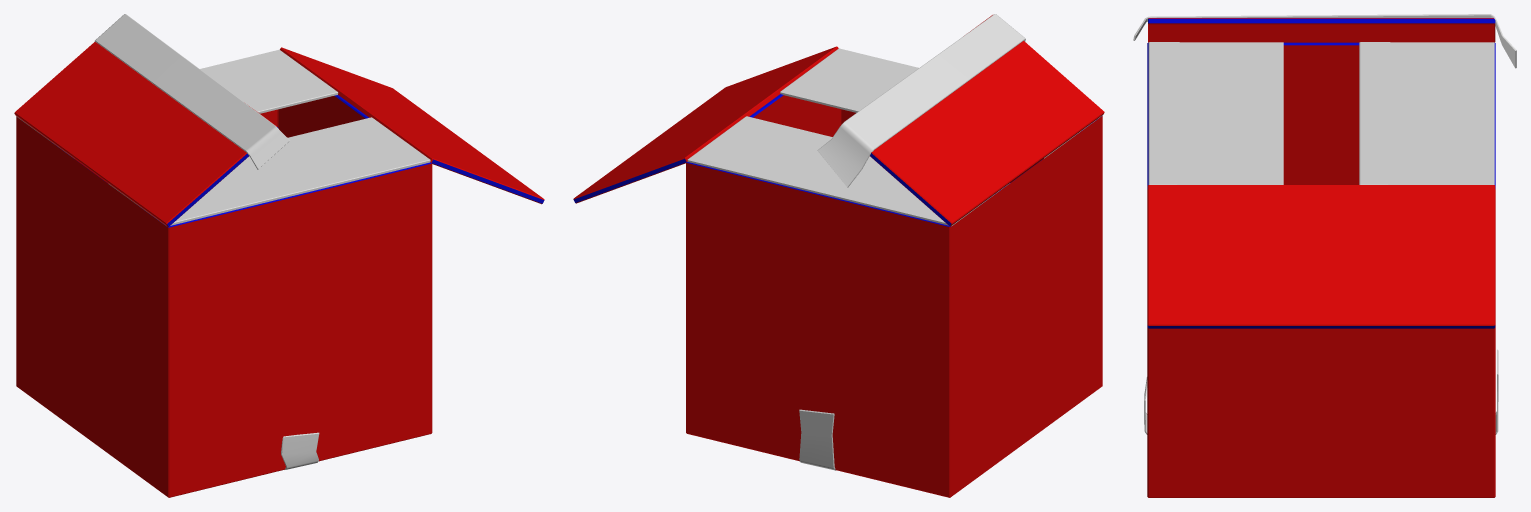
Rendered from BoxOpen (1).fbx.
3 views of the same model, side by side, from view 1: azimuth 30°, elevation 25°; view 2: azimuth 150°, elevation 25°; view 3: azimuth 270°, elevation 25° (orthographic). The views are drawn at different scales.
Parts seen in each view (by area): view 1: Box_1, CardBoardLid2, CardBoardLid3, Tape2, CardBoardLid1, CardBoardLid4, Tape1; view 2: Box_1, CardBoardLid2, CardBoardLid4, Tape2, CardBoardLid1, CardBoardLid3, Tape1; view 3: Box_1, CardBoardLid1, CardBoardLid3, CardBoardLid4, CardBoardLid2, Tape2.
Part boxes in pixels (x1,y1,x2,y2): Box_1: (16, 95, 432, 497); CardBoardLid2: (14, 42, 278, 226); CardBoardLid3: (108, 117, 430, 225); Tape2: (94, 14, 289, 169); CardBoardLid1: (280, 47, 544, 204); CardBoardLid4: (16, 49, 338, 158); Tape1: (281, 432, 319, 469); Box_1: (686, 94, 1102, 497); CardBoardLid2: (870, 15, 1104, 226); CardBoardLid4: (687, 116, 1009, 226); Tape2: (817, 14, 1025, 187); CardBoardLid1: (573, 46, 838, 203); CardBoardLid3: (780, 48, 1102, 158); Tape1: (799, 409, 835, 470); Box_1: (1147, 42, 1495, 497); CardBoardLid1: (1147, 185, 1495, 328); CardBoardLid3: (1148, 42, 1283, 184); CardBoardLid4: (1359, 42, 1494, 184); CardBoardLid2: (1148, 18, 1495, 42); Tape2: (1133, 14, 1516, 68).
Bounding box in the file's own units: 104 × 91.69 × 79.86.
